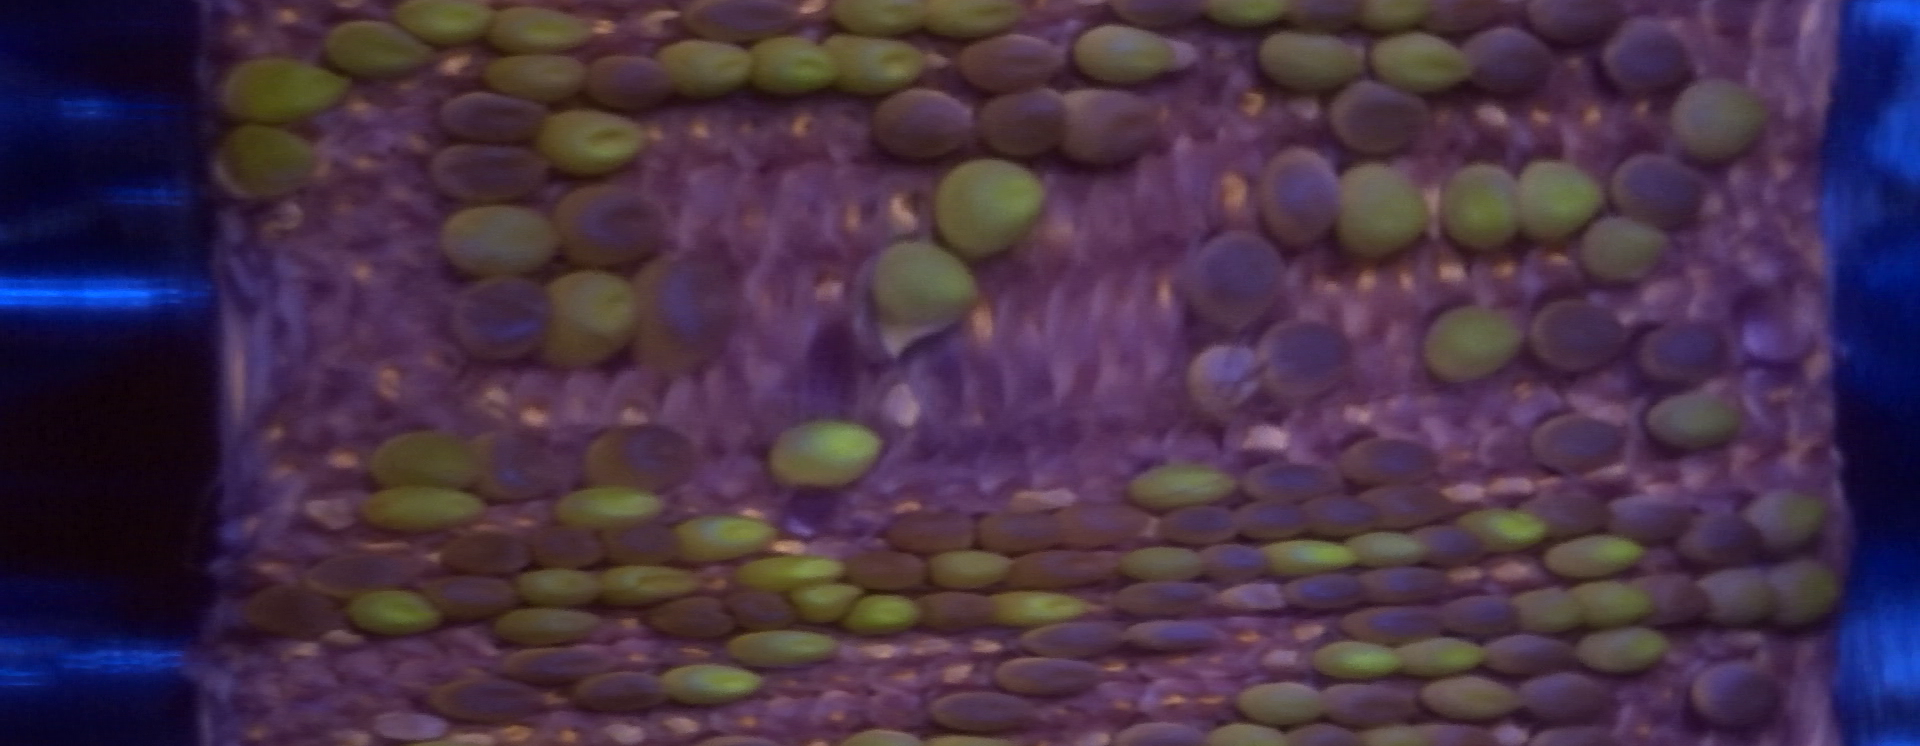fluorescent: (1325, 158, 1438, 266), (876, 249, 981, 330), (940, 169, 1047, 247), (545, 273, 636, 364), (443, 211, 567, 276), (1671, 86, 1771, 156), (1442, 169, 1522, 255), (823, 34, 932, 97), (1427, 309, 1526, 375), (373, 435, 489, 491), (219, 60, 347, 107), (544, 111, 647, 169), (1515, 169, 1602, 235), (1583, 212, 1671, 277), (1255, 33, 1360, 85), (1369, 40, 1476, 91), (751, 39, 838, 98), (1071, 31, 1180, 77), (658, 43, 757, 93), (778, 429, 877, 479), (1134, 464, 1251, 506), (220, 132, 309, 187), (500, 49, 598, 98), (324, 31, 440, 72), (672, 518, 779, 560), (366, 488, 489, 523), (1506, 587, 1589, 638), (396, 1, 497, 43), (1420, 680, 1524, 720), (1771, 559, 1839, 620), (489, 10, 591, 50), (670, 660, 773, 701), (1236, 680, 1329, 724), (1749, 499, 1823, 551), (1653, 397, 1740, 440), (1456, 511, 1545, 552), (923, 1, 1022, 38), (1571, 575, 1644, 624), (838, 1, 939, 36), (1311, 646, 1402, 684), (563, 492, 671, 524), (1254, 543, 1359, 575), (1582, 633, 1667, 671), (853, 595, 926, 639), (354, 597, 440, 631), (600, 570, 691, 601), (934, 548, 1007, 587), (996, 592, 1084, 624), (1547, 544, 1651, 571), (1133, 548, 1207, 584), (1400, 641, 1483, 673), (749, 559, 846, 586), (522, 572, 602, 604), (1346, 533, 1429, 563), (1359, 1, 1428, 37), (1195, 1, 1296, 24), (793, 584, 860, 619), (736, 637, 823, 663), (1210, 724, 1284, 746)
nonfluorescent: (636, 258, 729, 377), (549, 194, 682, 263), (1194, 236, 1291, 323), (1051, 92, 1162, 164), (579, 430, 702, 492), (456, 278, 549, 358), (1261, 158, 1344, 246), (868, 93, 981, 156), (430, 142, 553, 198), (1527, 301, 1627, 370), (1262, 321, 1354, 396), (1600, 29, 1689, 103), (1466, 29, 1553, 100), (476, 436, 569, 502), (976, 99, 1070, 160), (1338, 86, 1427, 148), (435, 682, 560, 726), (1611, 164, 1704, 222), (239, 588, 348, 636), (953, 38, 1063, 85), (446, 98, 560, 142), (1691, 668, 1784, 722), (687, 1, 803, 44), (1356, 481, 1461, 528), (1515, 676, 1622, 722), (1524, 488, 1621, 537), (420, 575, 527, 619), (587, 55, 673, 109), (1638, 328, 1731, 379), (500, 647, 620, 685), (1523, 1, 1627, 44), (1536, 415, 1629, 463), (444, 530, 542, 576), (309, 552, 436, 587), (1608, 496, 1701, 543), (576, 673, 673, 717), (645, 600, 744, 643), (1633, 575, 1716, 626), (1343, 441, 1436, 486), (1436, 595, 1527, 641), (1010, 550, 1117, 588), (994, 657, 1100, 693), (1025, 617, 1127, 655), (1125, 612, 1222, 652), (1321, 684, 1417, 723), (1116, 584, 1224, 619), (598, 521, 684, 563), (931, 696, 1036, 730), (977, 512, 1067, 551), (1347, 605, 1449, 639), (1283, 570, 1365, 611), (916, 594, 1000, 633), (882, 512, 973, 548), (1411, 521, 1487, 563), (1352, 568, 1450, 601), (1162, 506, 1242, 546), (849, 549, 929, 588), (1682, 518, 1760, 559), (538, 522, 607, 566), (725, 590, 798, 632), (1058, 505, 1142, 540), (1288, 1, 1360, 40), (1202, 544, 1269, 586), (1234, 501, 1300, 538), (1258, 467, 1322, 503), (1120, 1, 1220, 24), (1299, 502, 1378, 530), (1118, 723, 1198, 746), (1419, 726, 1509, 746), (1529, 729, 1630, 746), (1286, 725, 1367, 746)
